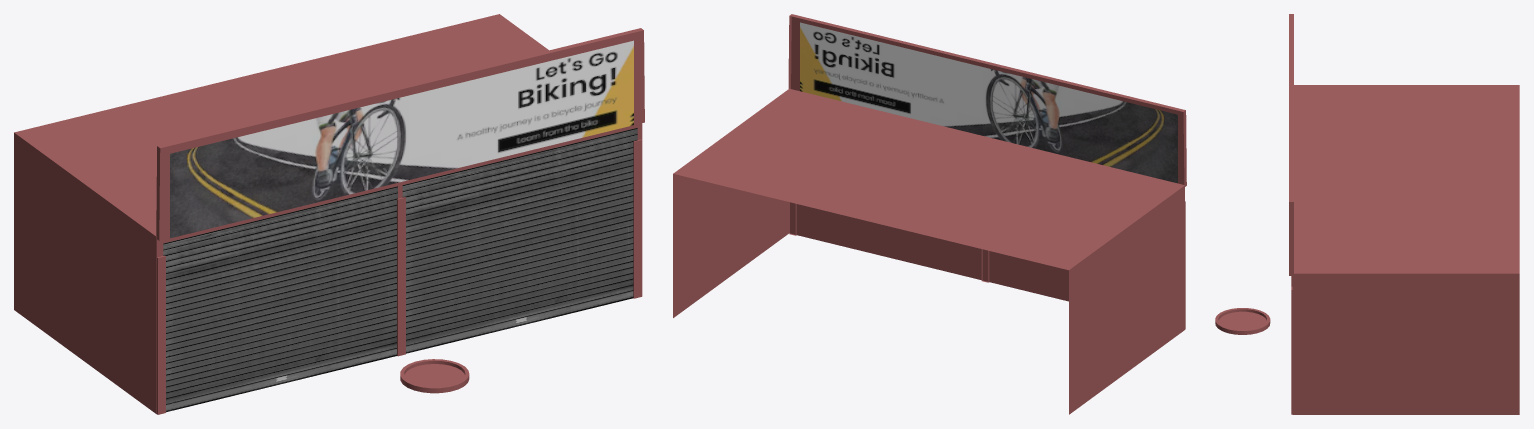
Rendered from B cycle fbx.fbx.
3 renders of one model, left to right at view 1: azimuth 30°, elevation 25°; view 2: azimuth 150°, elevation 25°; view 3: azimuth 270°, elevation 25°, orthographic. The views are drawn at different scales.
Parts seen in each view (by area): view 1: polySurface1, polySurface6, polySurface5, polySurface7, pCylinder1, polySurface3, polySurface4, polySurface2; view 2: polySurface1, polySurface6; view 3: polySurface1, polySurface6, pCylinder1.
Part boxes in pixels (x1,y1,x2,y2): polySurface1: [14, 14, 642, 414]; polySurface6: [156, 28, 644, 240]; polySurface5: [163, 186, 397, 412]; polySurface7: [402, 128, 637, 353]; pCylinder1: [400, 359, 469, 393]; polySurface3: [633, 139, 642, 298]; polySurface4: [397, 197, 405, 356]; polySurface2: [157, 255, 165, 414]; polySurface1: [673, 88, 1184, 414]; polySurface6: [788, 14, 1186, 186]; polySurface1: [1292, 85, 1519, 414]; polySurface6: [1289, 14, 1293, 275]; pCylinder1: [1215, 308, 1270, 334].
Size of the model in its own units: 24.17 by 12.79 by 16.48.
